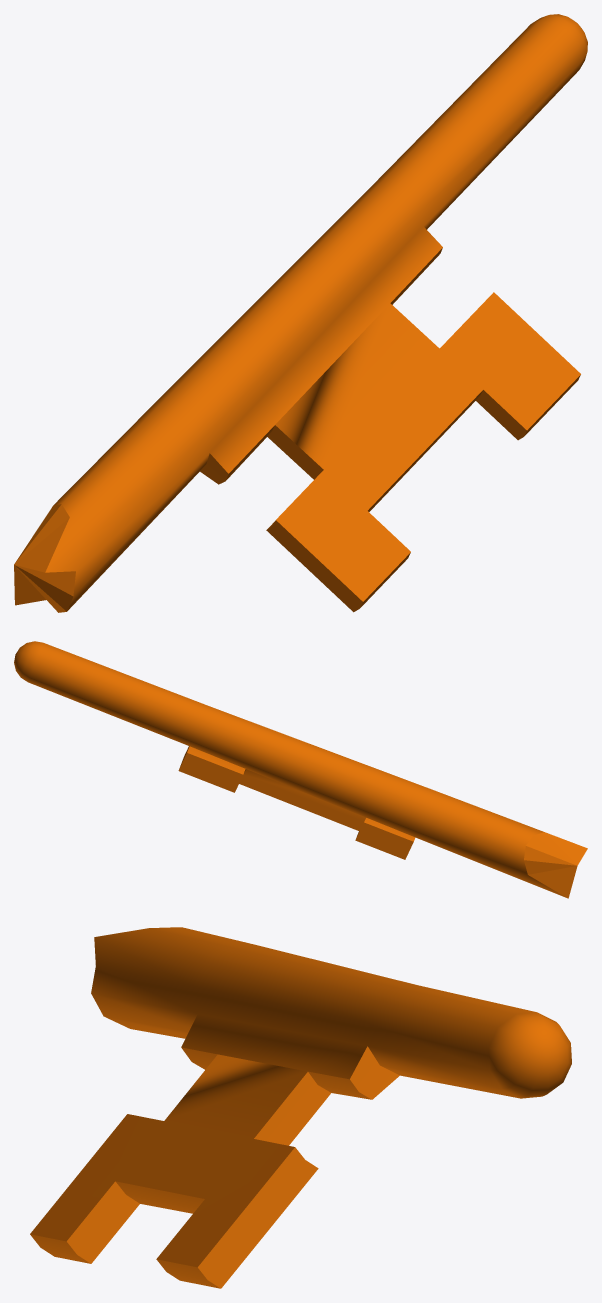
3 views of the same model, one above another, from view 1: azimuth 30°, elevation 25°; view 2: azimuth 150°, elevation 25°; view 3: azimuth 270°, elevation 25° (orthographic). The views are drawn at different scales.
Visible parts, largest first — view 1: Object004; view 2: Object004; view 3: Object004.
Boxes of the visible parts, x1,y1,x2,y2 form: Object004: (14, 14, 587, 612); Object004: (14, 641, 587, 898); Object004: (30, 927, 571, 1288).
Size of the model in its own units: 6.36 by 3.15 by 3.19.
